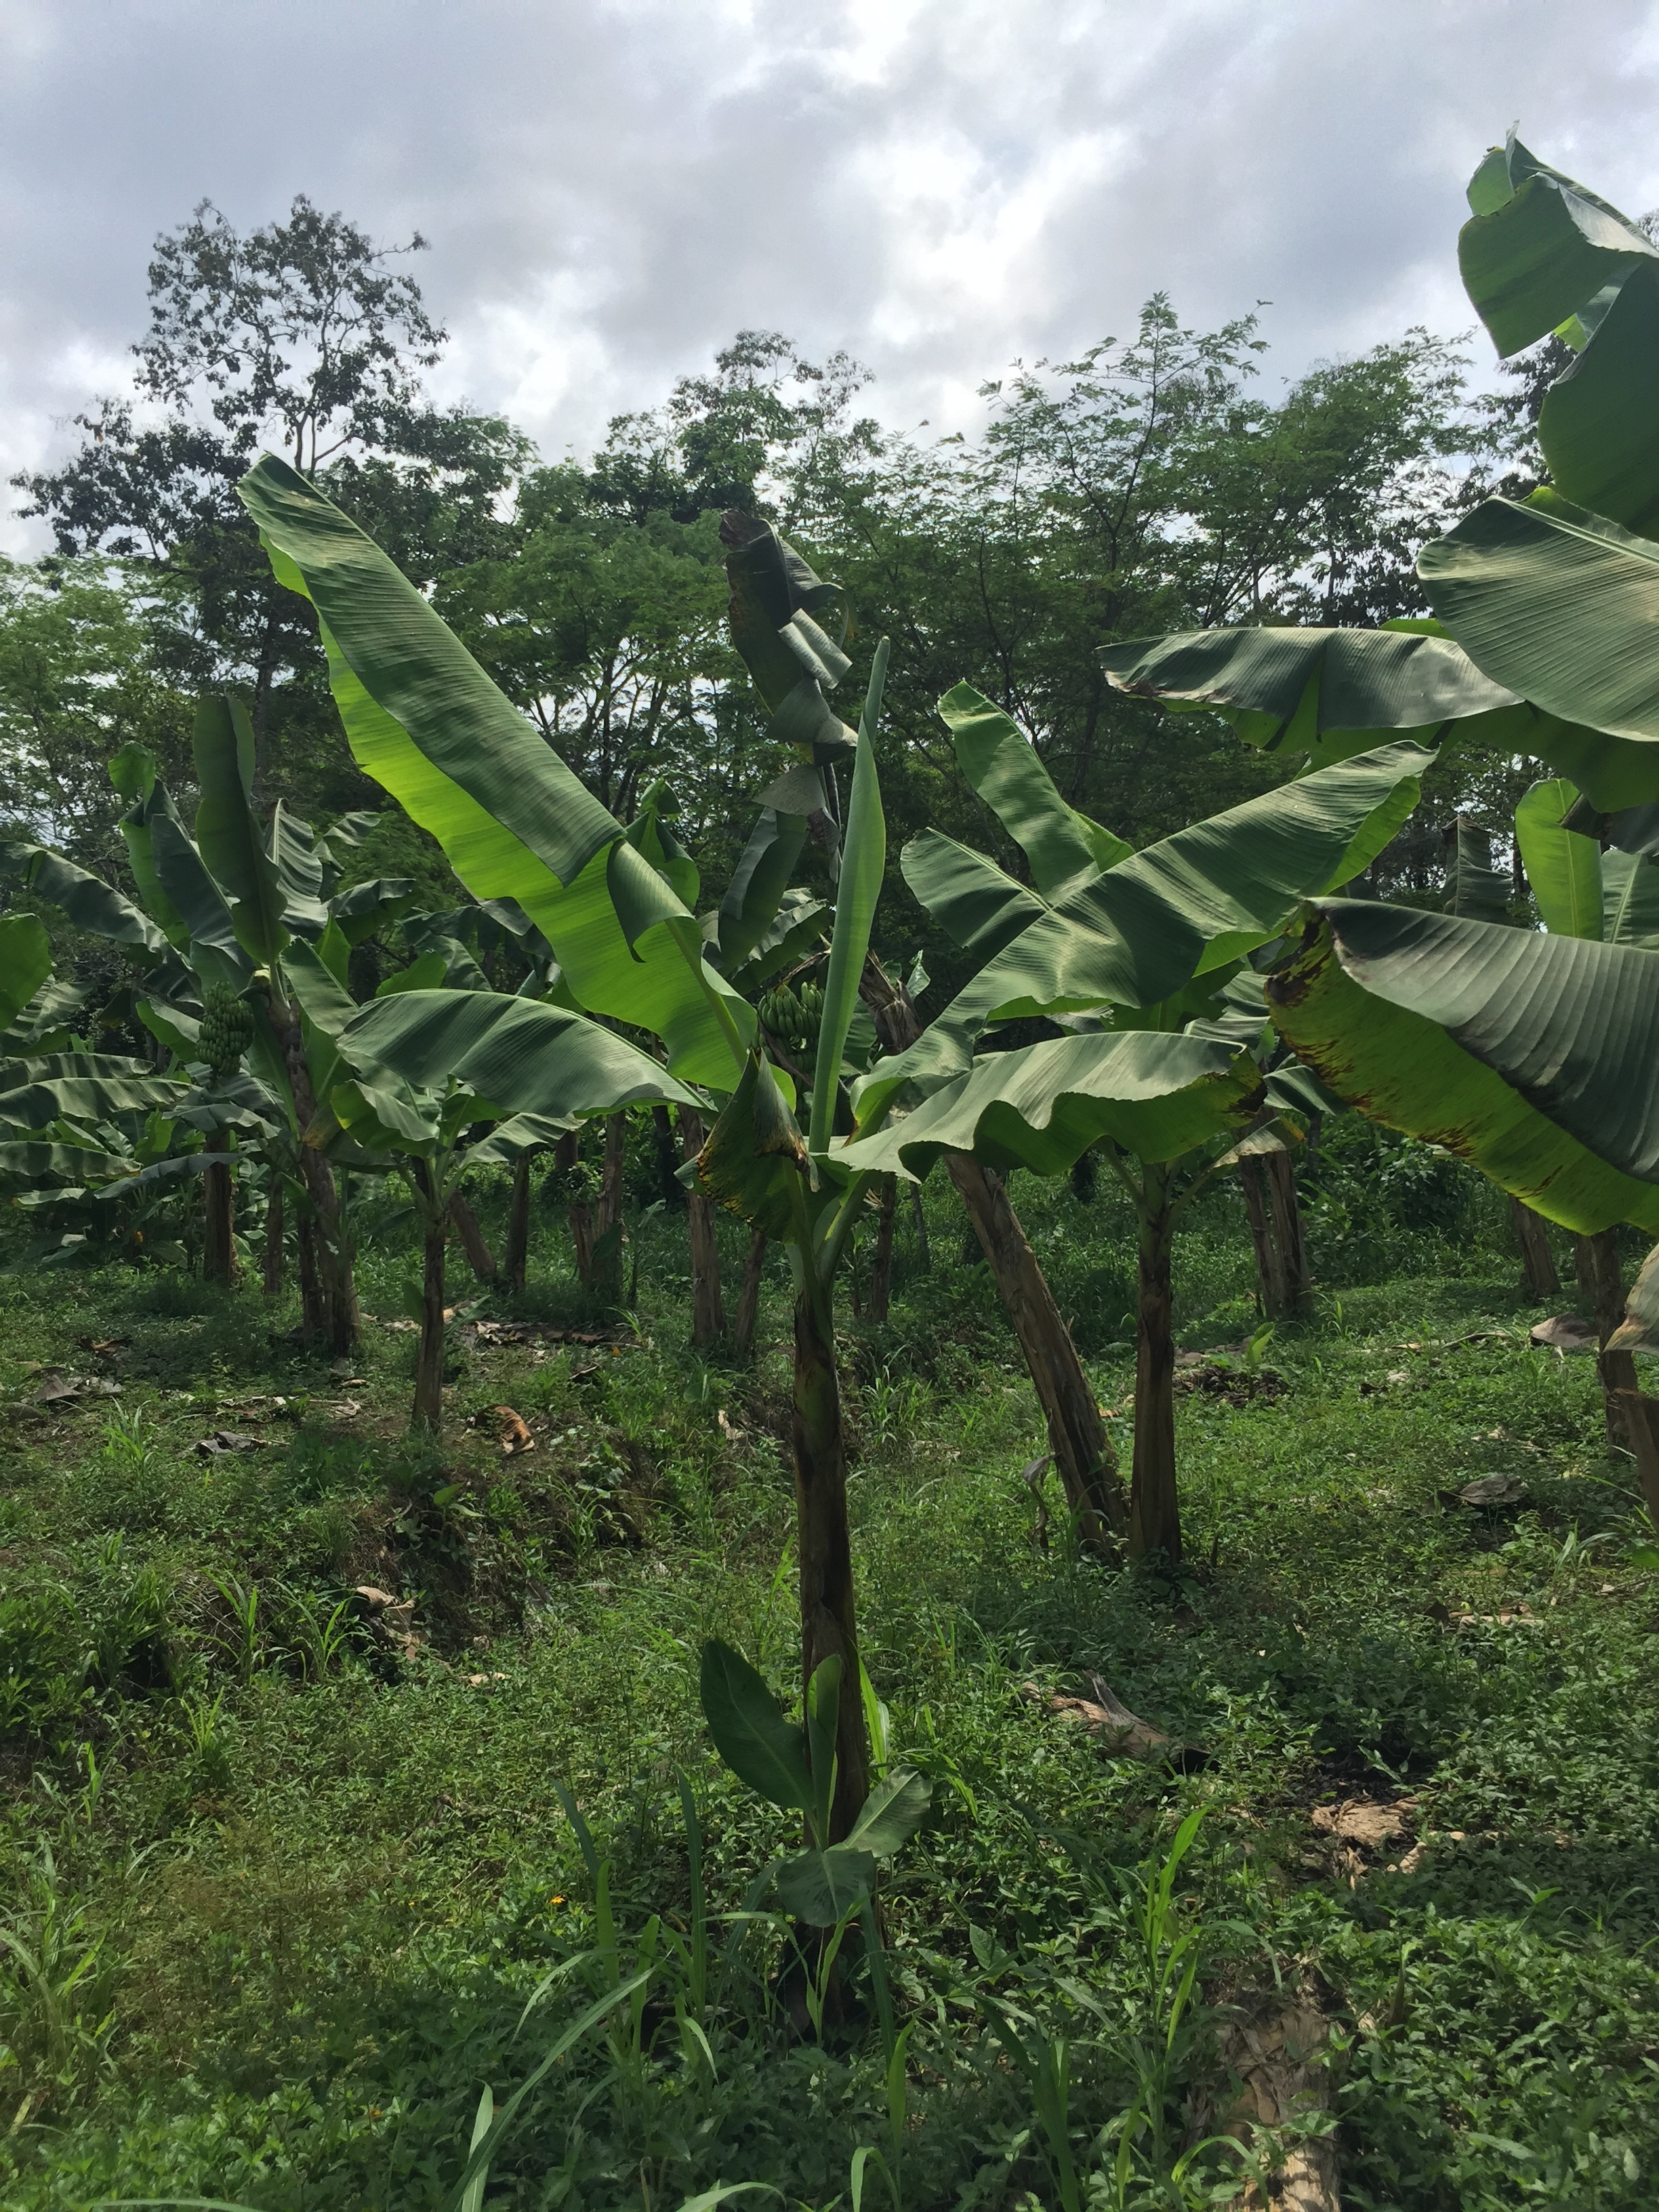candleleafs: (809, 637, 894, 1157)
